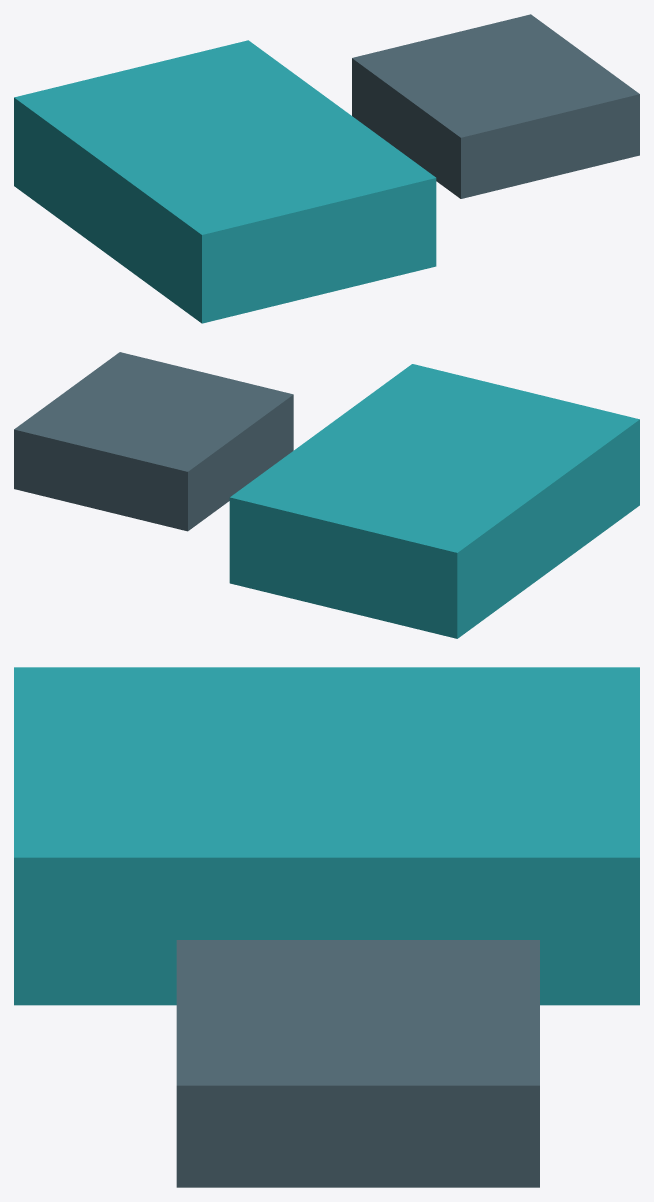
File: backup-inverter-controller.glb
3 renders of one model, top to bottom at view 1: azimuth 30°, elevation 25°; view 2: azimuth 150°, elevation 25°; view 3: azimuth 270°, elevation 25°, orthographic. The views are drawn at different scales.
Parts seen in each view (by area): view 1: world; view 2: world; view 3: world.
Boxes of the visible parts, box(x1,y1,x2,y2) form: world: box(14, 14, 639, 323); world: box(14, 352, 639, 638); world: box(14, 667, 639, 1187).
Size of the model in its own units: 1.5 by 0.26 by 1.
